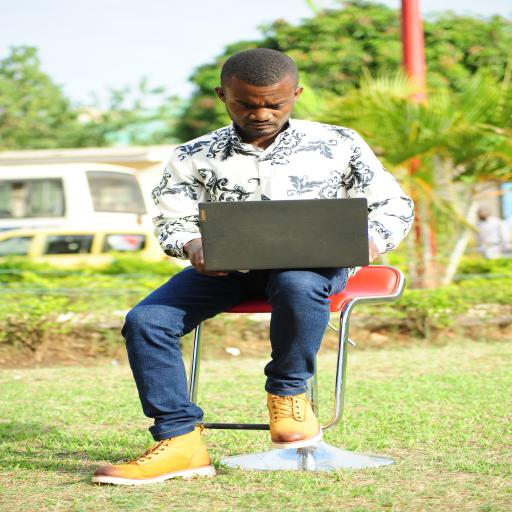MATTHIEU: (208, 57, 313, 143)
